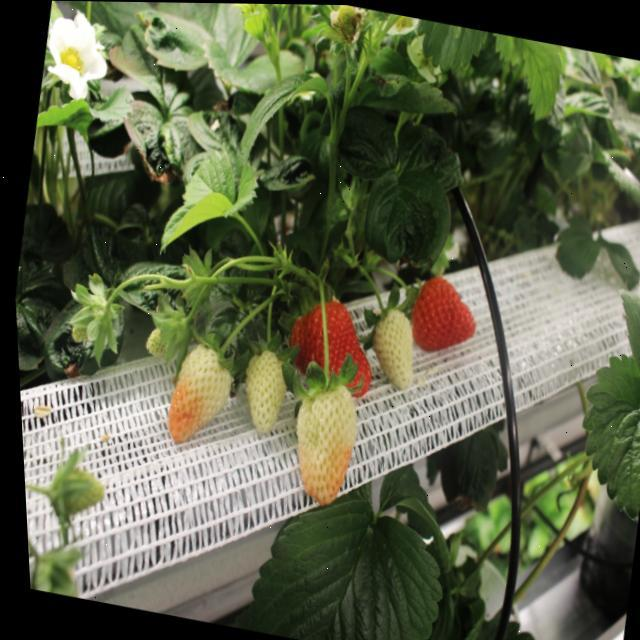ripe: (273, 289, 383, 396), (396, 268, 484, 363)
